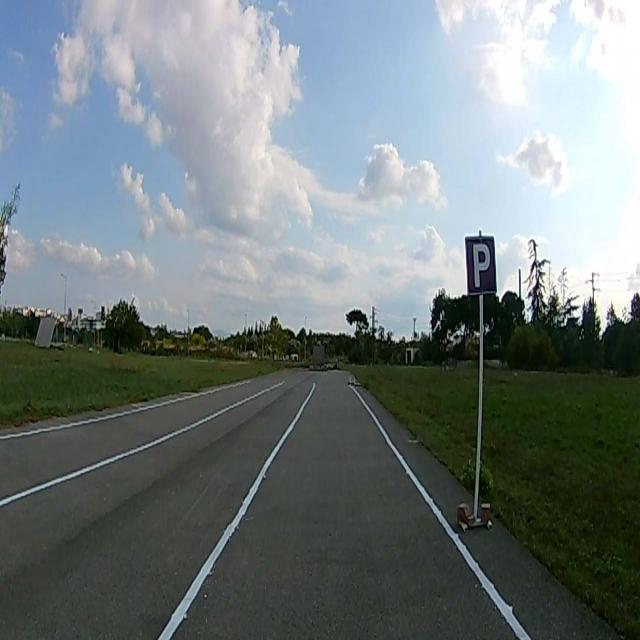park: (464, 235, 496, 294)
